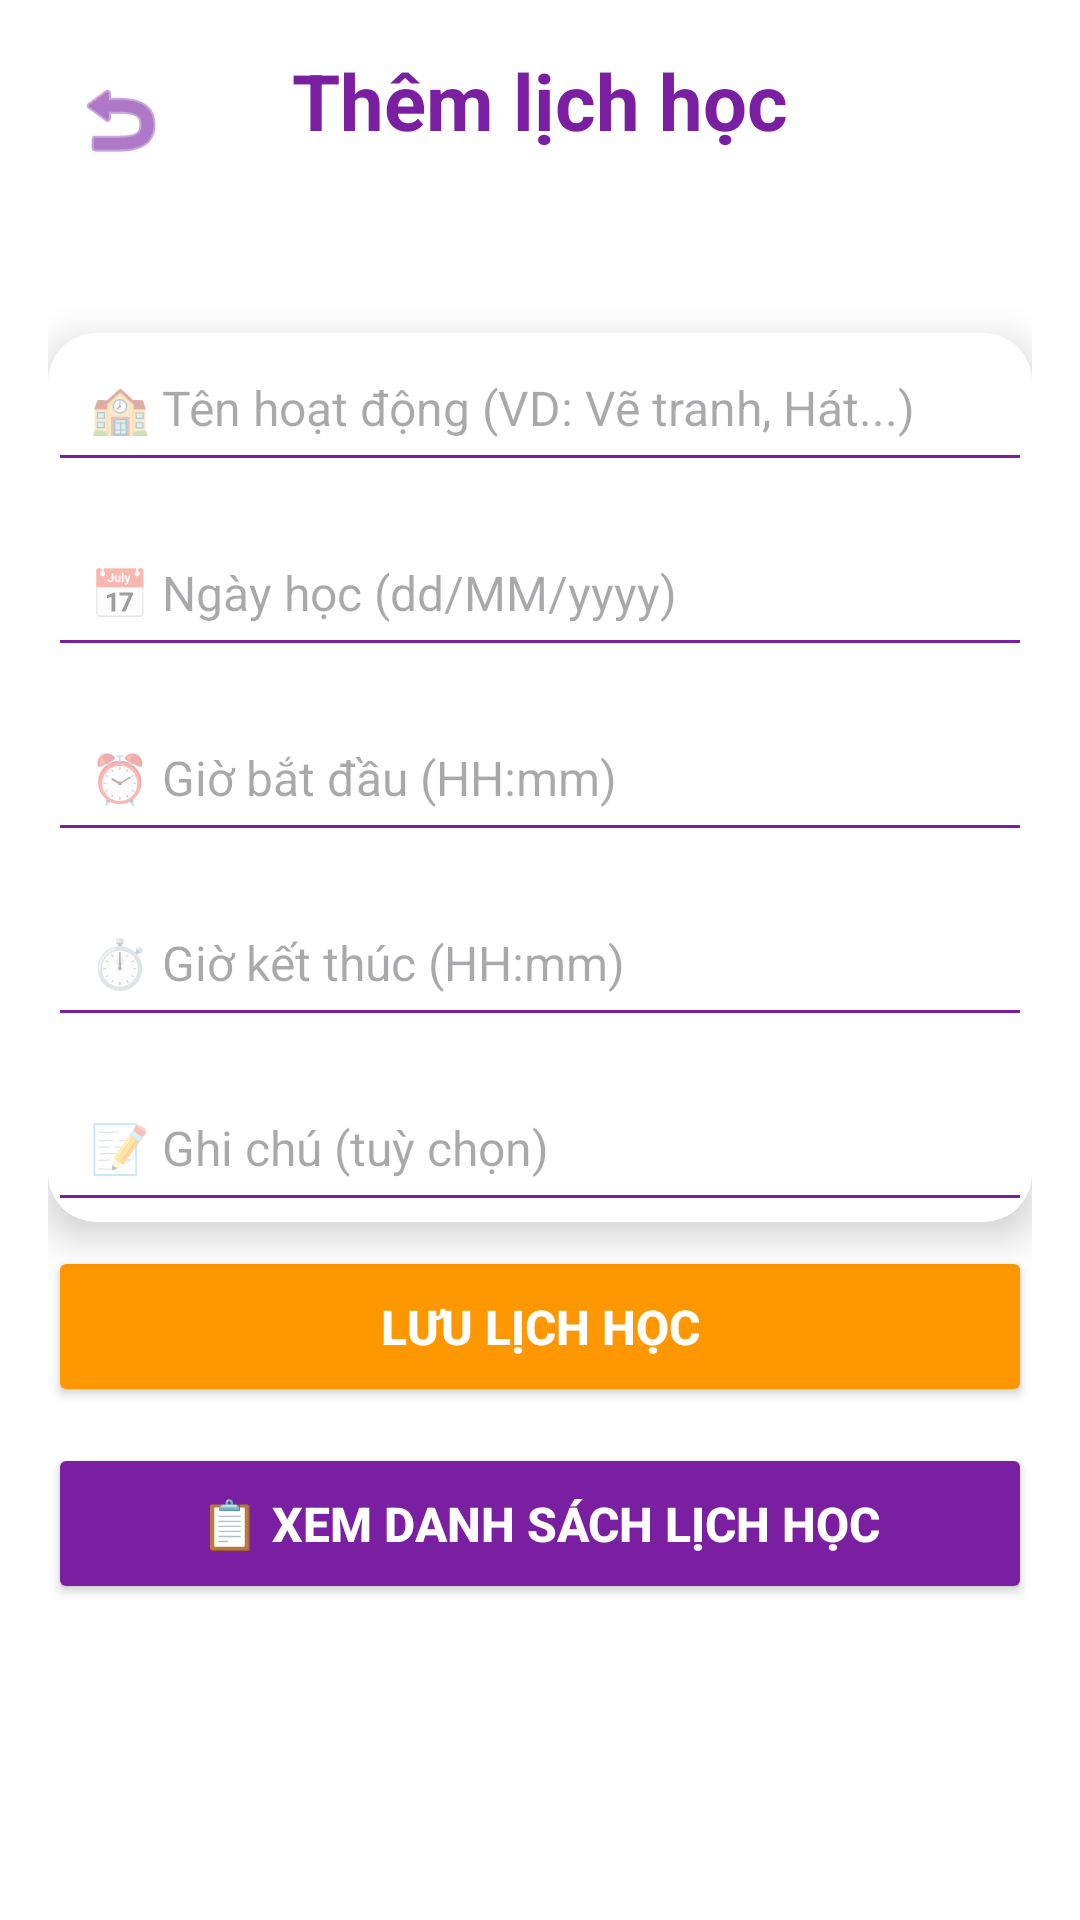

Point at icon controls on the screen. Image size 1080x1920, points as point (x, y).
Quay lại: point (121, 120)
